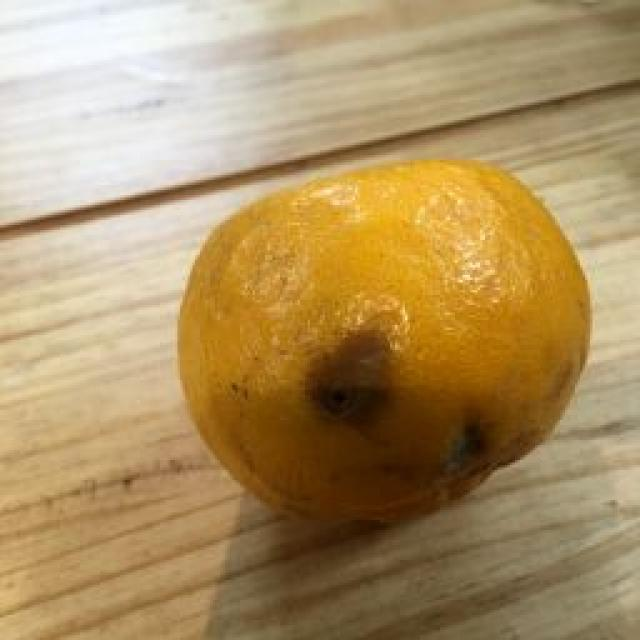Bad_Orange: (180, 160, 589, 519)
